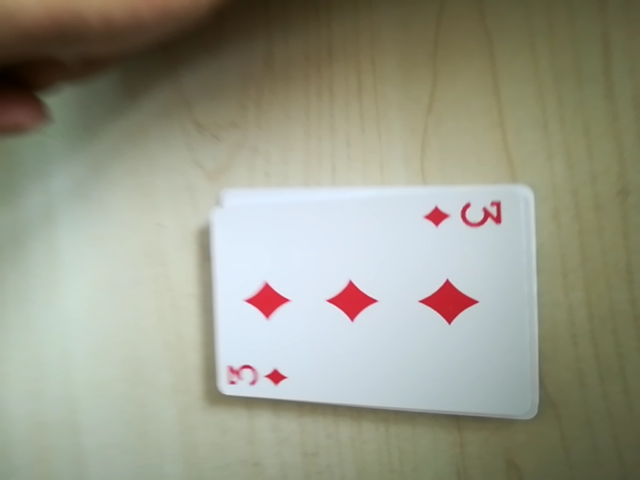fk 3: (418, 189, 510, 238), (218, 354, 295, 396)
